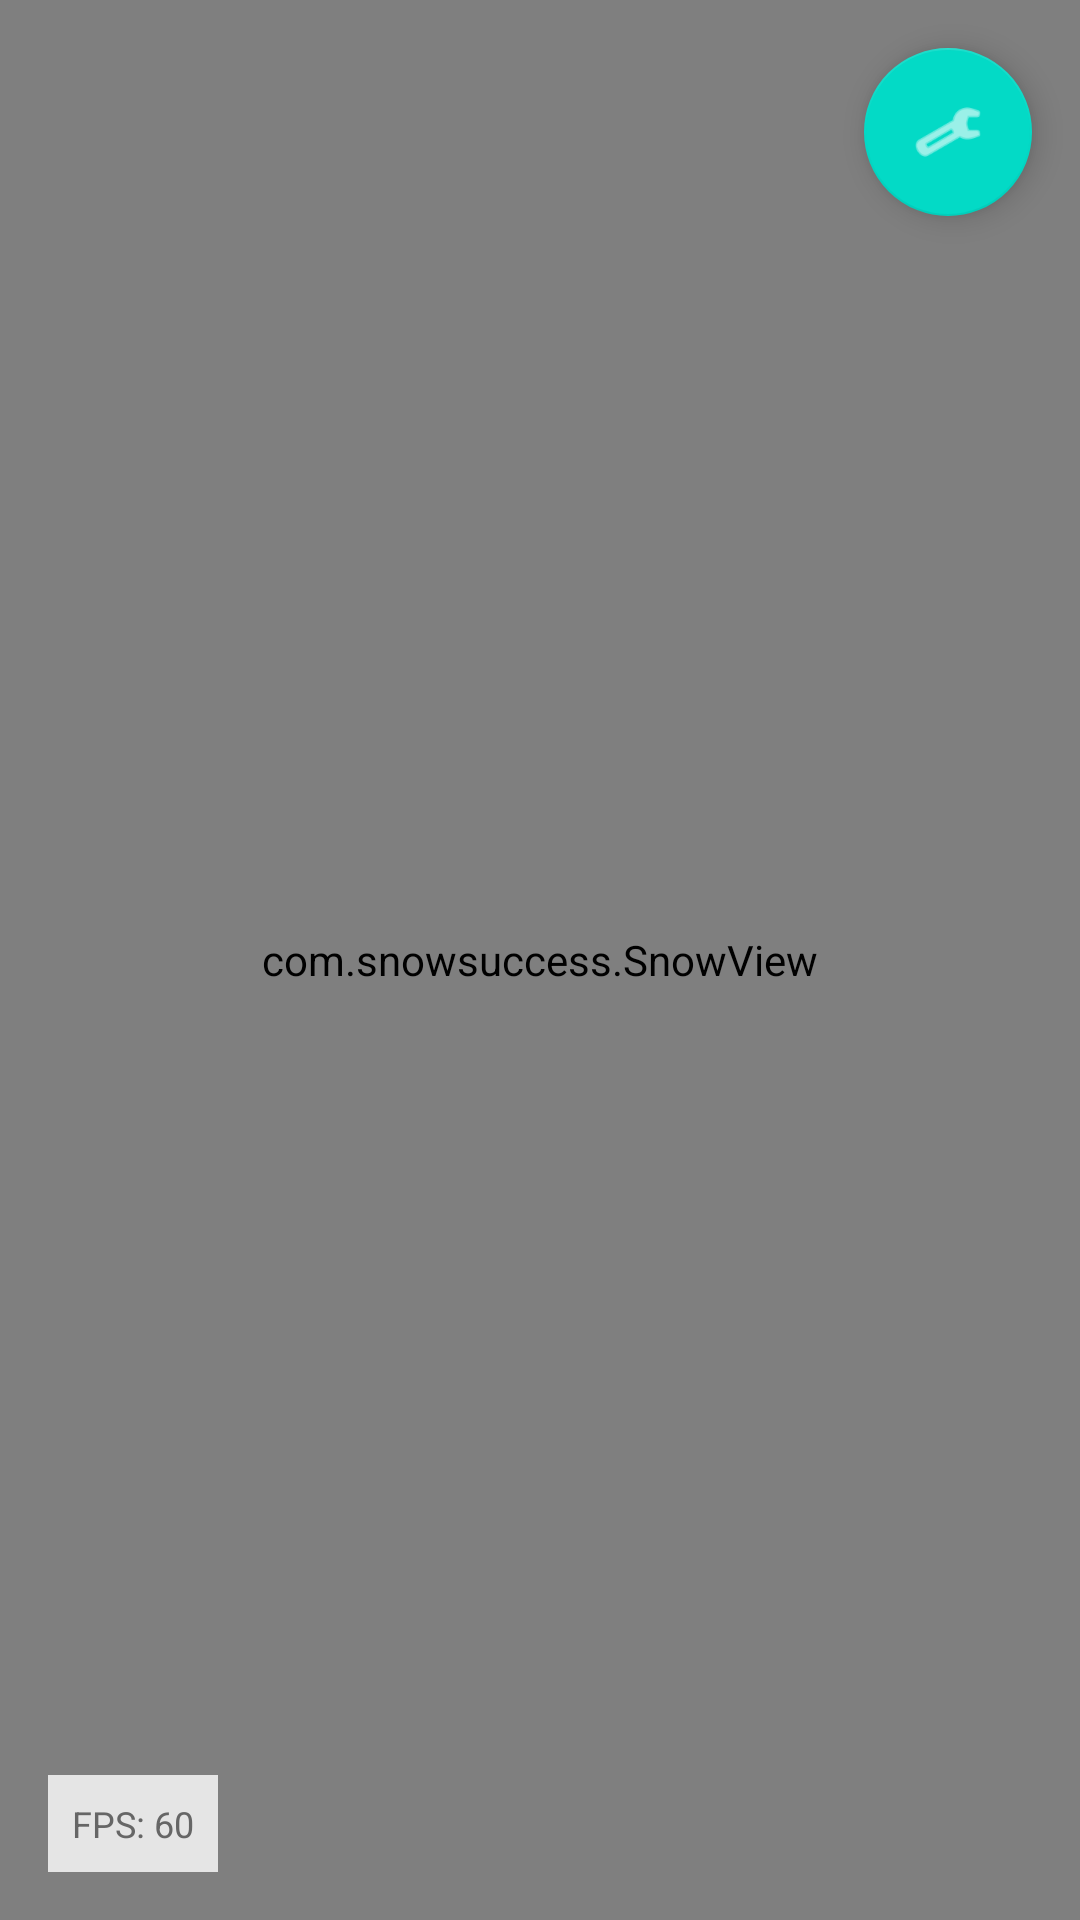

Named icons in this screenshot (1080px×1920px) and their bounding boxes, [x1, y1, x2, y2]:
Настройки снега: [864, 48, 1032, 216]
